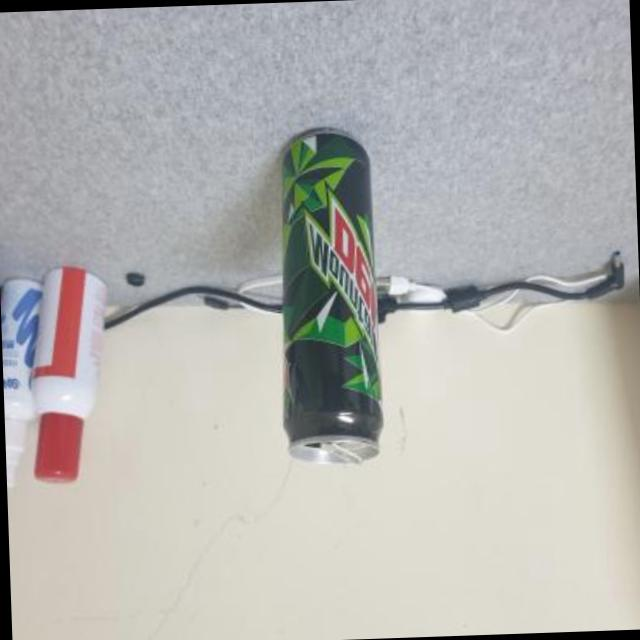metal: (279, 133, 379, 464)
